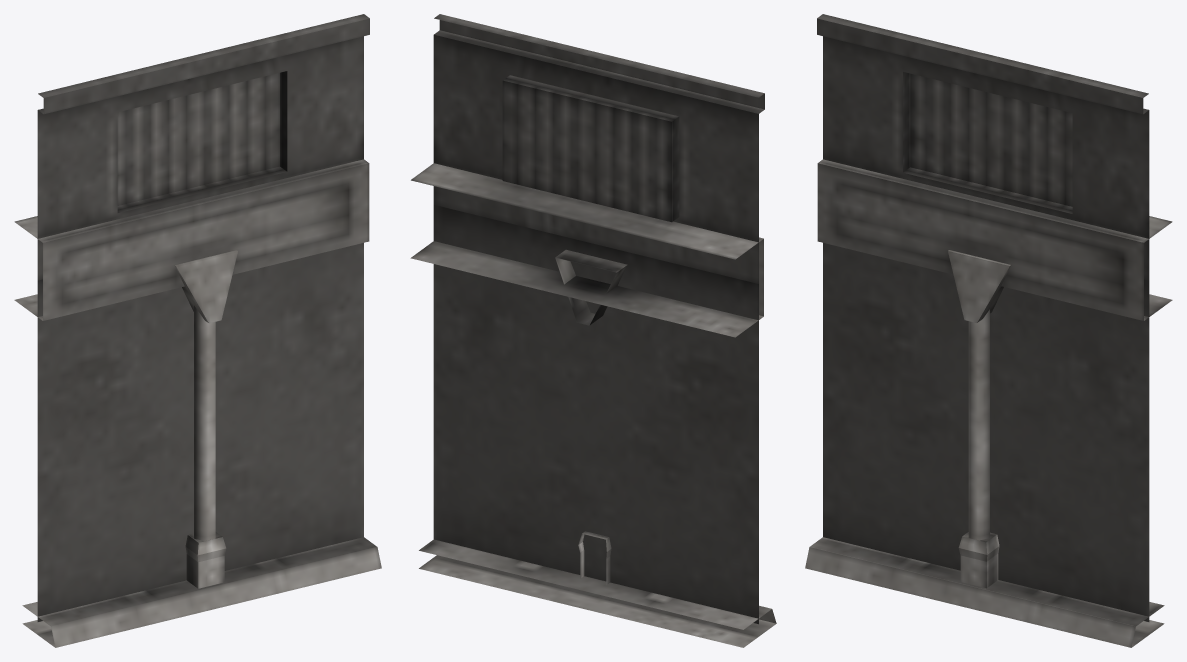
Rendered from B1_LastFloor_WallPillar.FBX.
3 renders of one model, left to right at view 1: azimuth 30°, elevation 25°; view 2: azimuth 150°, elevation 25°; view 3: azimuth 330°, elevation 25°, orthographic.
Parts seen in each view (by area): view 1: B1_LastFloor_WallPillar; view 2: B1_LastFloor_WallPillar; view 3: B1_LastFloor_WallPillar.
Boxes of the visible parts, bbox=[...] form: B1_LastFloor_WallPillar: bbox=[14, 14, 381, 647]; B1_LastFloor_WallPillar: bbox=[410, 14, 776, 647]; B1_LastFloor_WallPillar: bbox=[805, 14, 1172, 647].
Size of the model in its own units: 4 by 6.34 by 0.8799.
